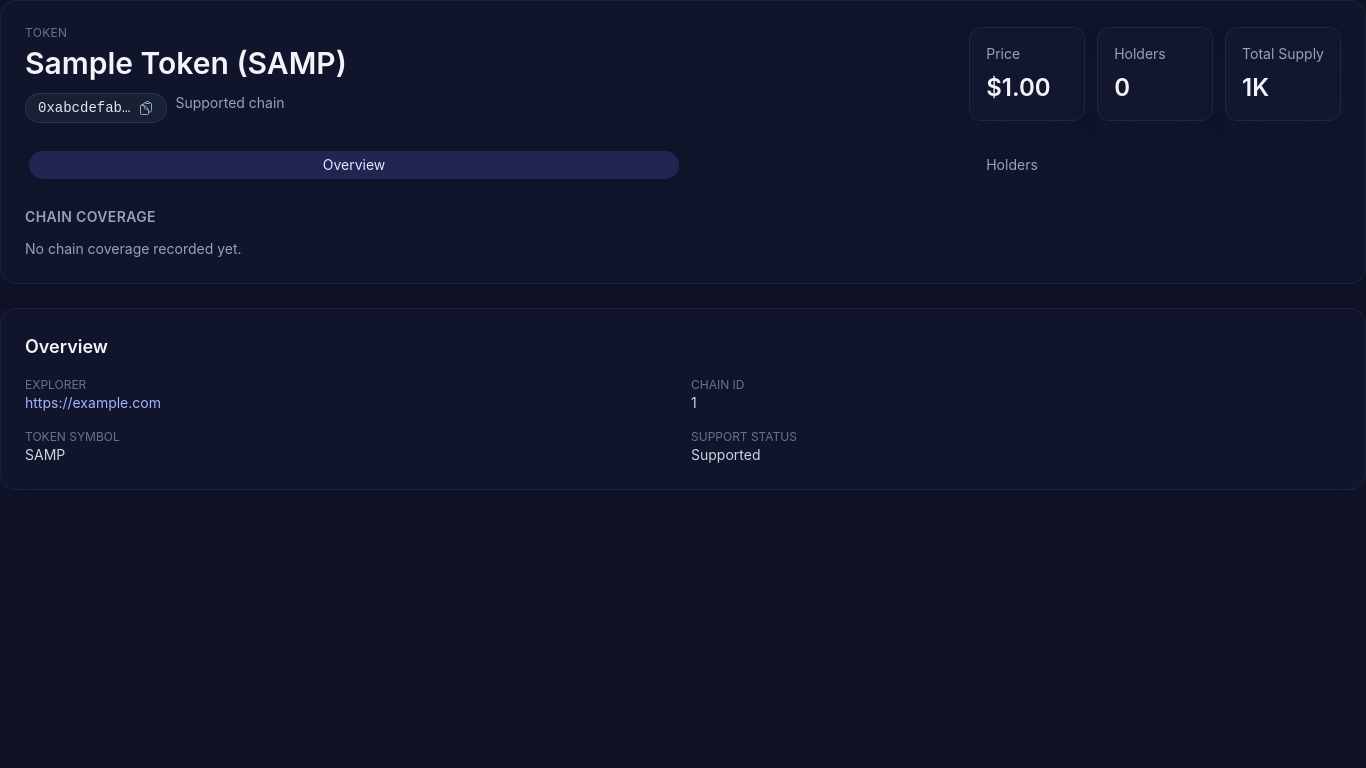
Test: TokenPage › shows indexing banner when holders are indexing
What coordinates should you click on to do the following:
click the tab "Holders"
I would click on:
 (1012, 165)
Its box is 687,151 -> 1337,179.
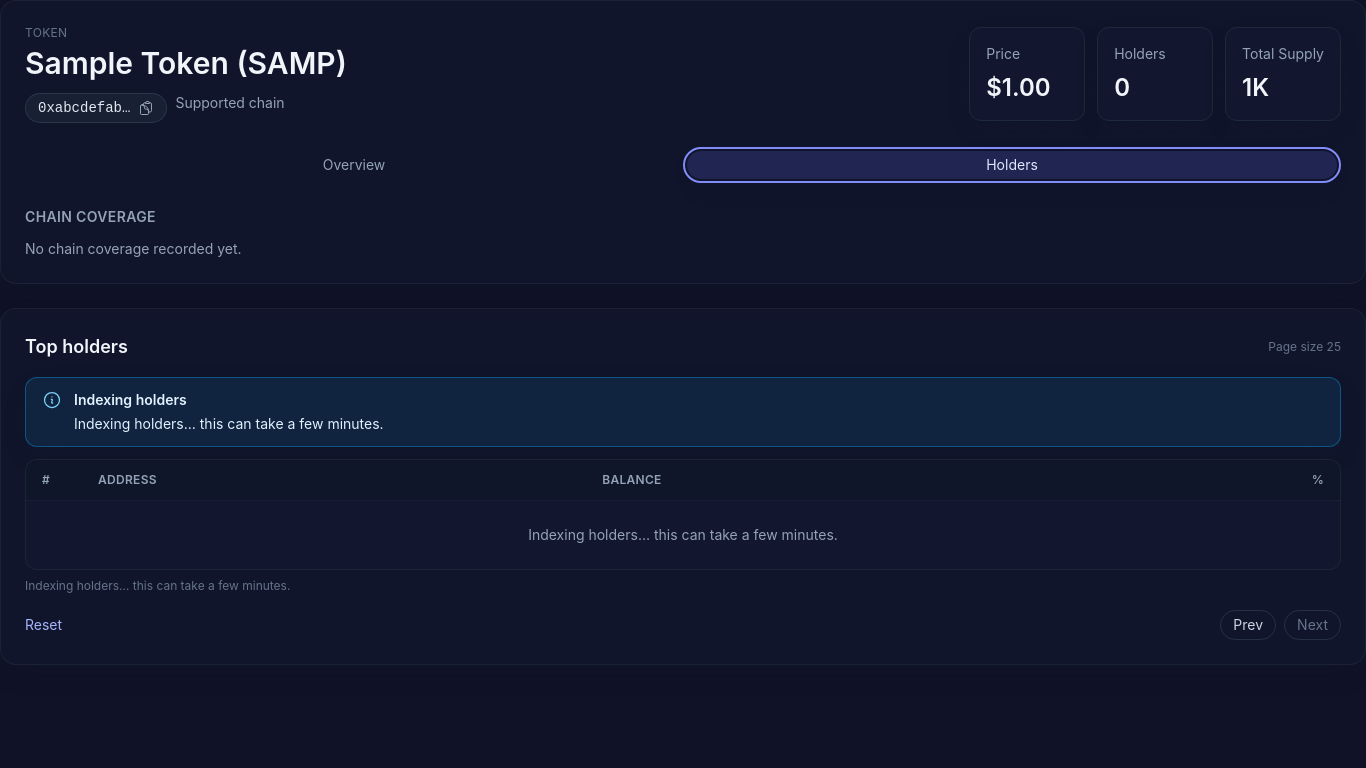
Check: the 1st text "Indexing holders… this can take a few minutes." is shown, box 74,414 -> 384,434
